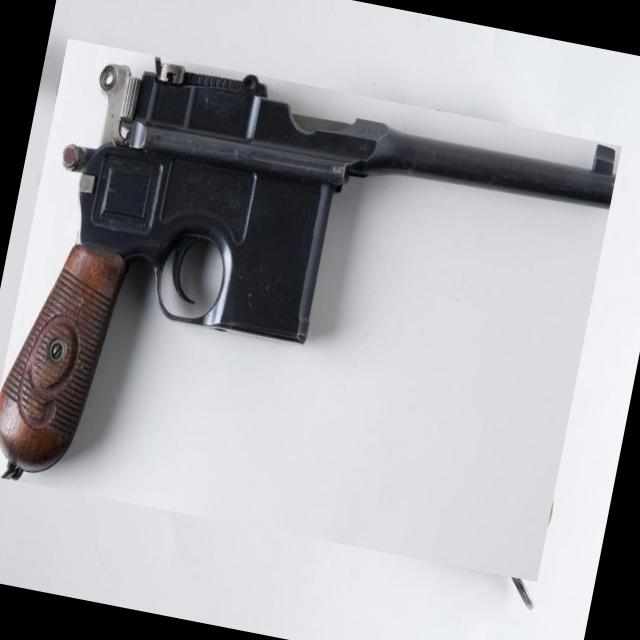Gun: (0, 62, 616, 479)
